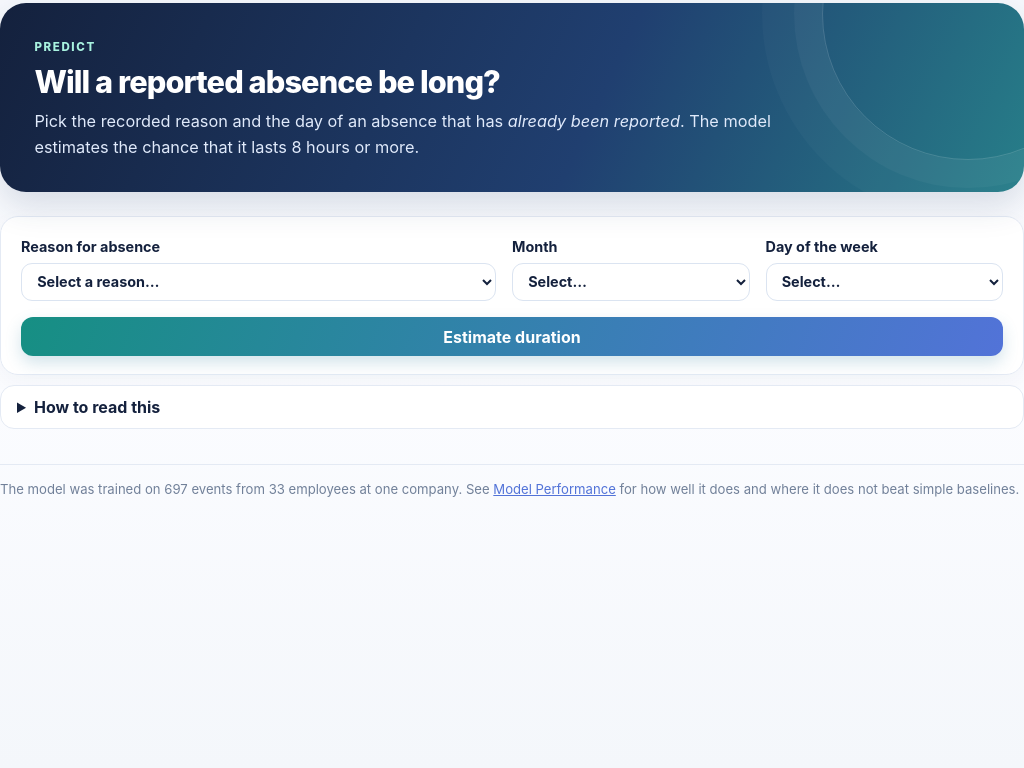
Test: Predict page › sends numeric inputs and renders the result with comparisons
The width and height of the screenshot is (1024, 768).
Select "23 – Medical consultation" in the dropdown labelled "Reason for absence" at (258, 282), box x1=21 y1=263 x2=496 y2=301
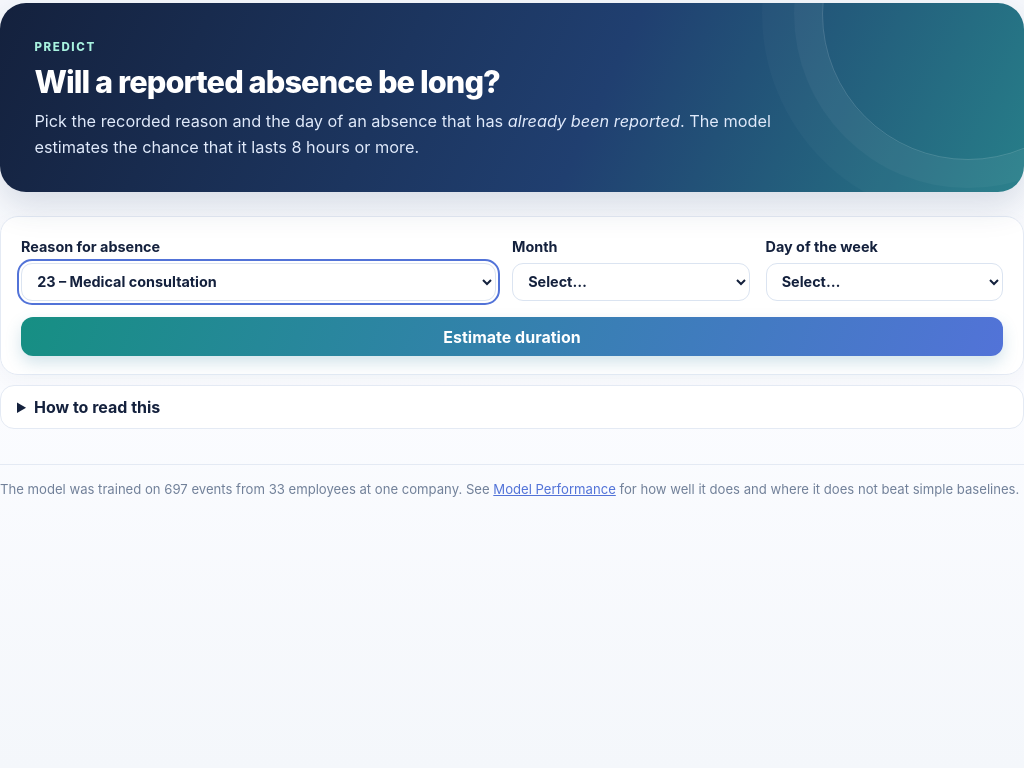
Select "July" in the dropdown labelled "Month" at (631, 282), box x1=512 y1=263 x2=750 y2=301
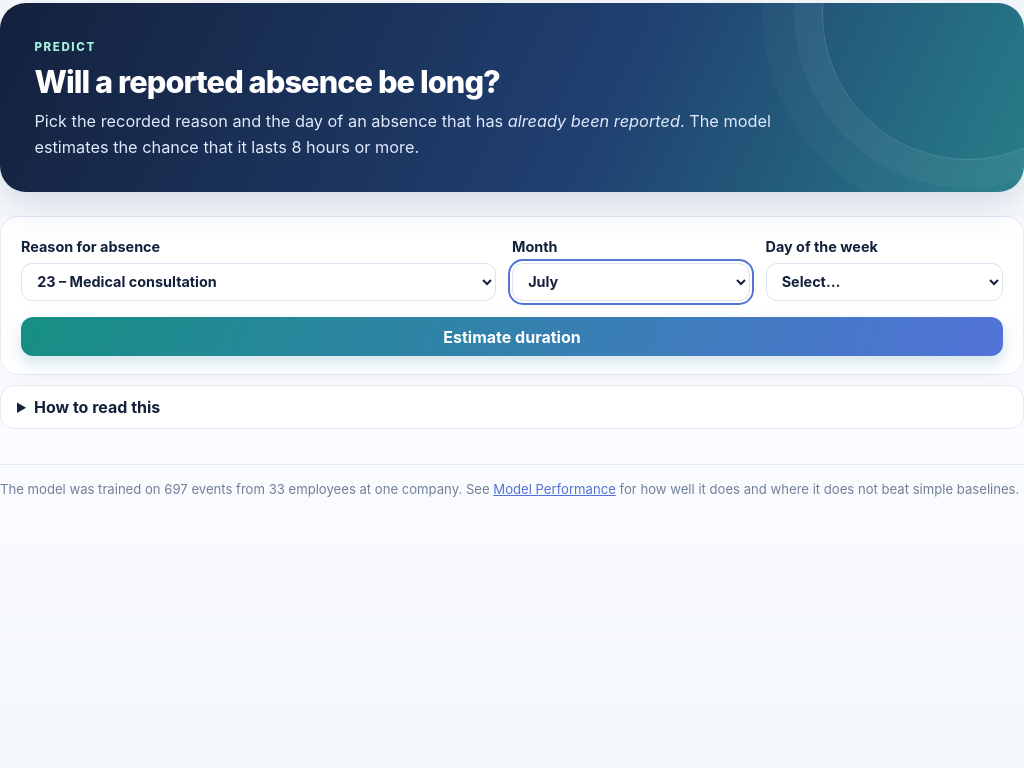
Select "Tuesday" in the dropdown labelled "Day of the week" at (884, 282), box x1=766 y1=263 x2=1003 y2=301
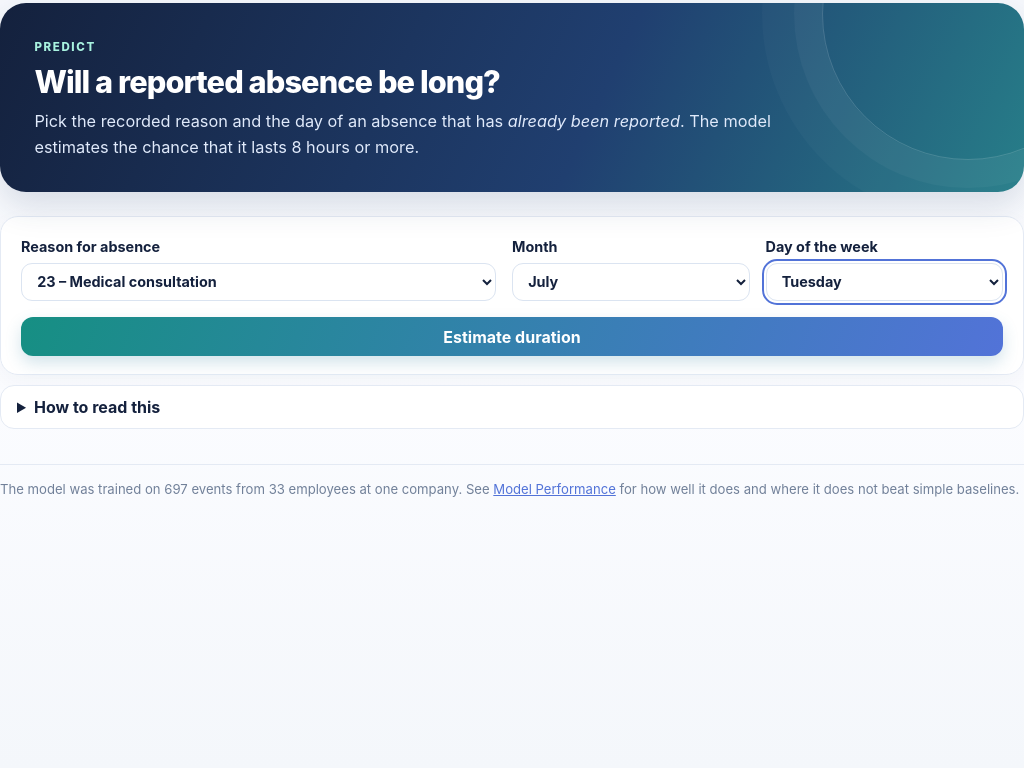
Click the button "Estimate duration".
click(512, 337)  # box x1=21 y1=317 x2=1003 y2=356
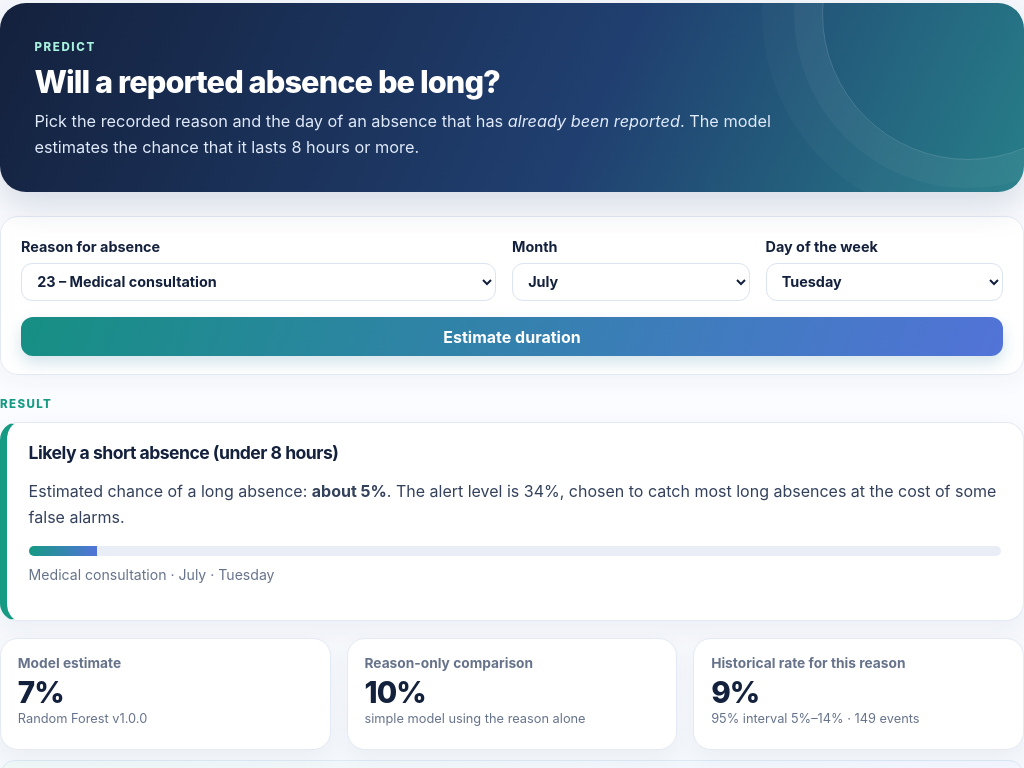
Check: the heading "Likely a short absence (under 8 hours)" is shown, box x1=29 y1=442 x2=338 y2=463
Check: the text "Reason-only comparison" is shown, box x1=364 y1=656 x2=533 y2=672
Check: the text "Historical rate for this reason" is shown, box x1=711 y1=656 x2=906 y2=672
